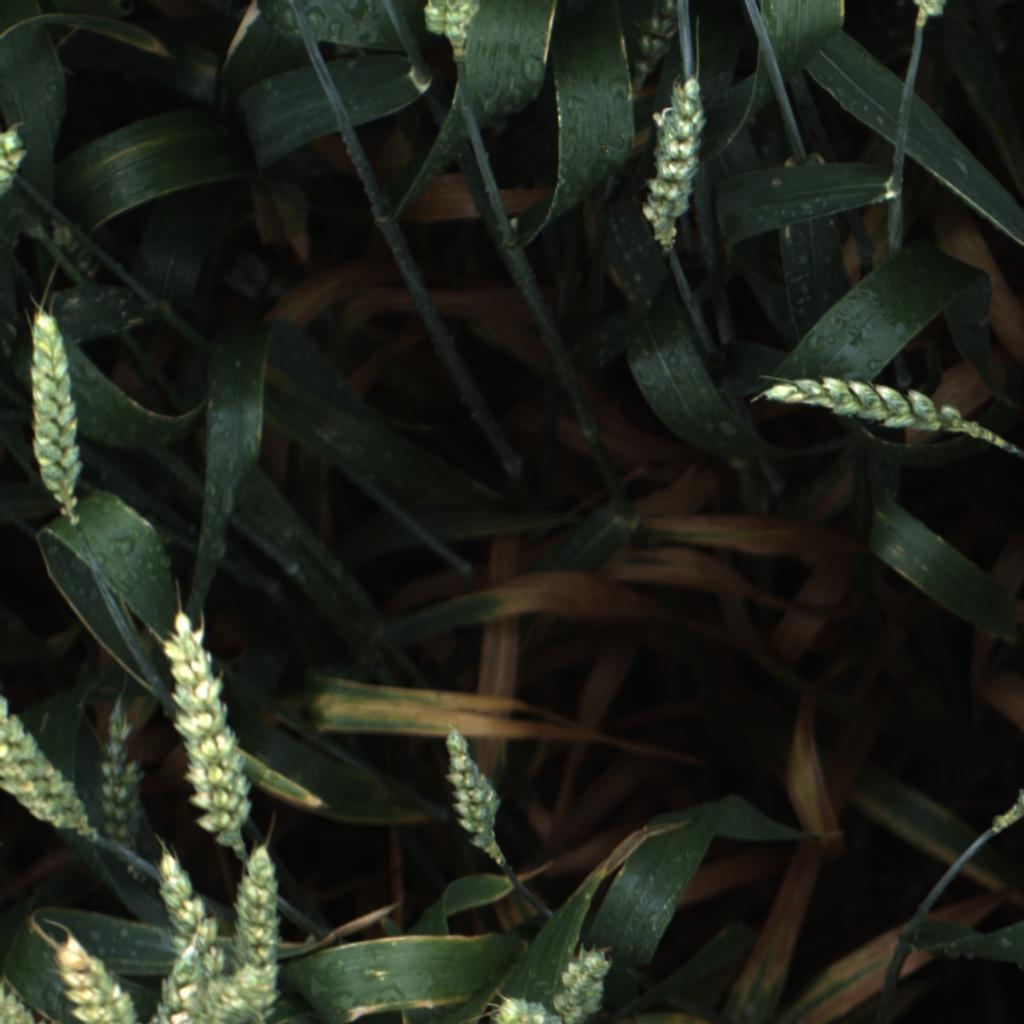0-0: (161, 603, 264, 856), (757, 367, 972, 447), (17, 307, 91, 511), (0, 696, 93, 849), (640, 69, 710, 245), (430, 723, 512, 868), (95, 694, 150, 868), (155, 848, 226, 981), (231, 842, 284, 1020), (53, 928, 144, 1024), (144, 929, 222, 1024), (195, 951, 282, 1024), (624, 0, 682, 104), (552, 943, 619, 1024), (43, 220, 103, 280), (424, 0, 485, 53), (483, 989, 565, 1024), (0, 119, 34, 197), (0, 975, 47, 1024), (914, 0, 949, 19)
